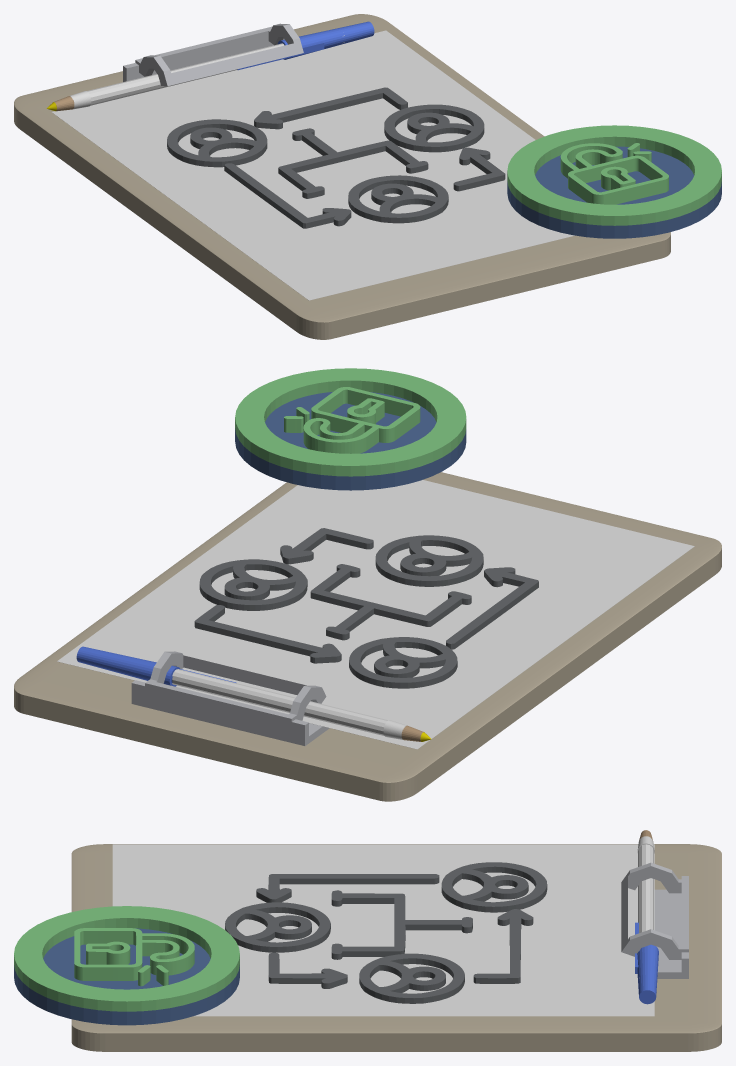
Rendered from Reestruturacao_de_empresa.glb.
3 renders of one model, top to bottom at view 1: azimuth 30°, elevation 25°; view 2: azimuth 150°, elevation 25°; view 3: azimuth 270°, elevation 25°, orthographic. The views are drawn at different scales.
Visible parts, largest first — view 1: Mesh_Mesh_head_geo.001_lambert2SG.001; view 2: Mesh_Mesh_head_geo.001_lambert2SG.001; view 3: Mesh_Mesh_head_geo.001_lambert2SG.001.
Boxes of the visible parts, x1,y1,x2,y2 form: Mesh_Mesh_head_geo.001_lambert2SG.001: [14, 14, 721, 339]; Mesh_Mesh_head_geo.001_lambert2SG.001: [14, 368, 721, 801]; Mesh_Mesh_head_geo.001_lambert2SG.001: [14, 830, 721, 1051].
Bounding box in the file's own units: 0.034 × 0.00633 × 0.047.
